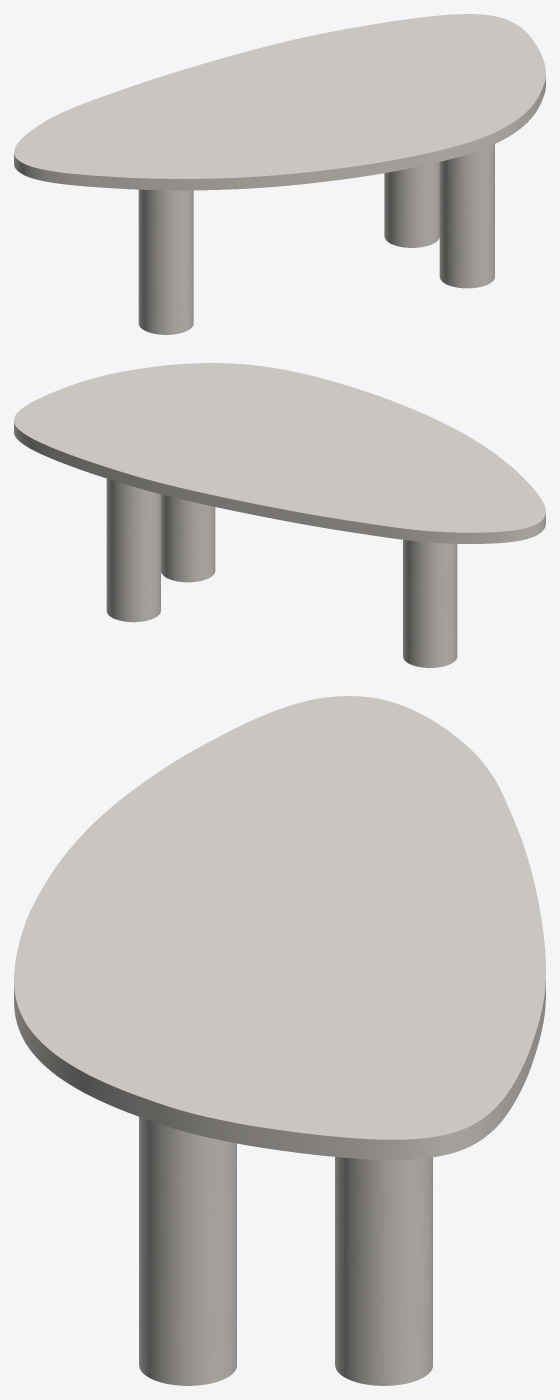
The model's file is pearlwhite_pebbletop_standard_cylinder.glb.
3 renders of one model, top to bottom at view 1: azimuth 30°, elevation 25°; view 2: azimuth 150°, elevation 25°; view 3: azimuth 270°, elevation 25°, orthographic. The views are drawn at different scales.
Parts seen in each view (by area): view 1: standard_pebbletop, cylinder; view 2: standard_pebbletop, cylinder; view 3: standard_pebbletop, cylinder.
Boxes of the visible parts, x1,y1,x2,y2 form: standard_pebbletop: [14, 14, 545, 190]; cylinder: [138, 144, 494, 334]; standard_pebbletop: [14, 363, 545, 543]; cylinder: [106, 478, 457, 667]; standard_pebbletop: [14, 696, 545, 1159]; cylinder: [139, 1116, 432, 1385].
Size of the model in its own units: 7.5 by 2.53 by 3.8.
Materials: 1 (1 with a texture image).
